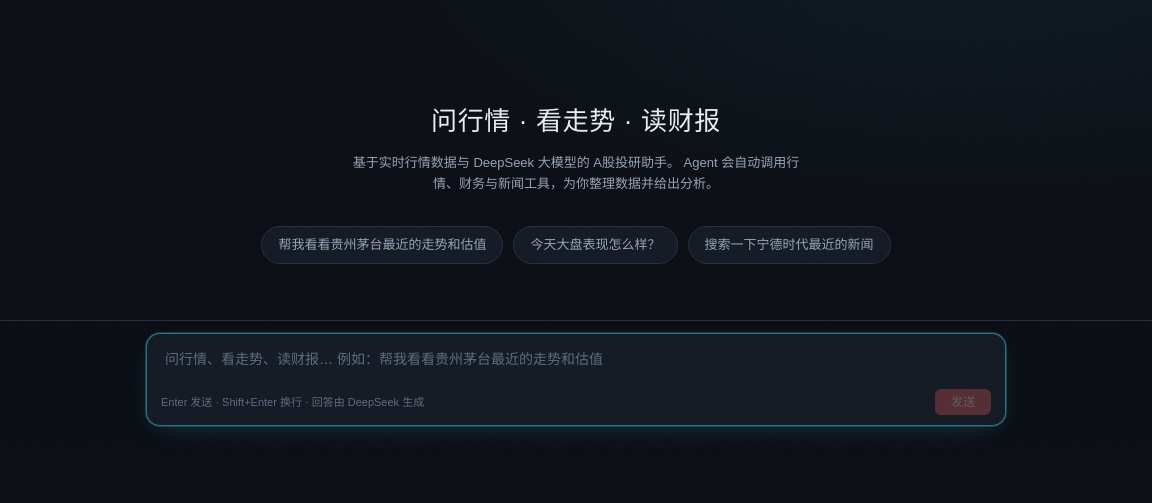
Test: ThreadArea 流中断与错误场景 › runAgent 非 Error 拒绝时回退默认文案
The image size is (1152, 503).
expect the text box with placeholder "问行情、看走势、读财报… 例如：帮我看看贵州茅台最近的走势和估值" is shown: met, box left=155, top=342, right=997, bottom=376
issue #27 闸门：发送需等当前线程回灌完成（setMessages 被调即回灌落地）
Click the button "帮我看看贵州茅台最近的走势和估值": [382, 245] box left=262, top=226, right=504, bottom=264
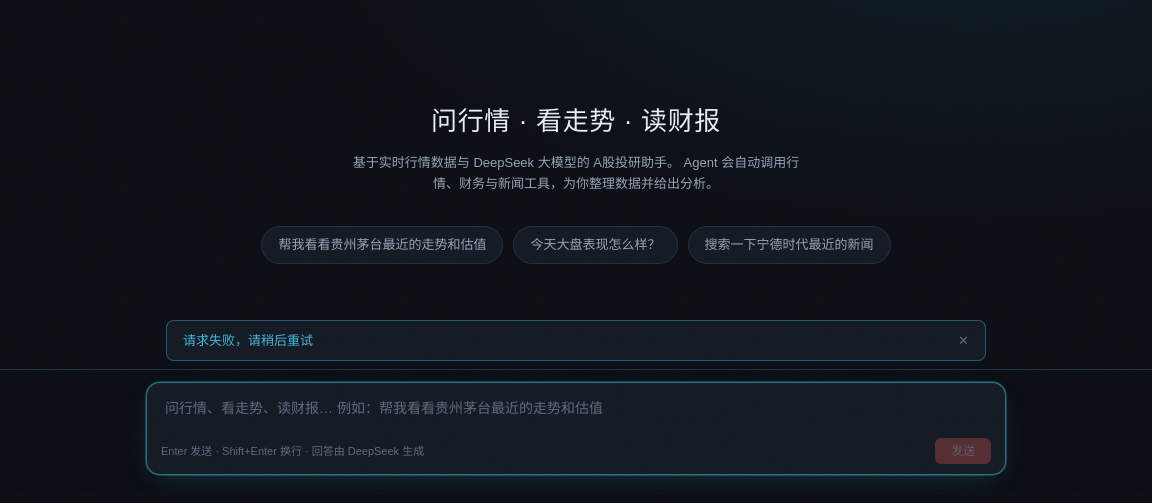
expect the text "请求失败，请稍后重试" is shown: met, box left=183, top=330, right=313, bottom=350
